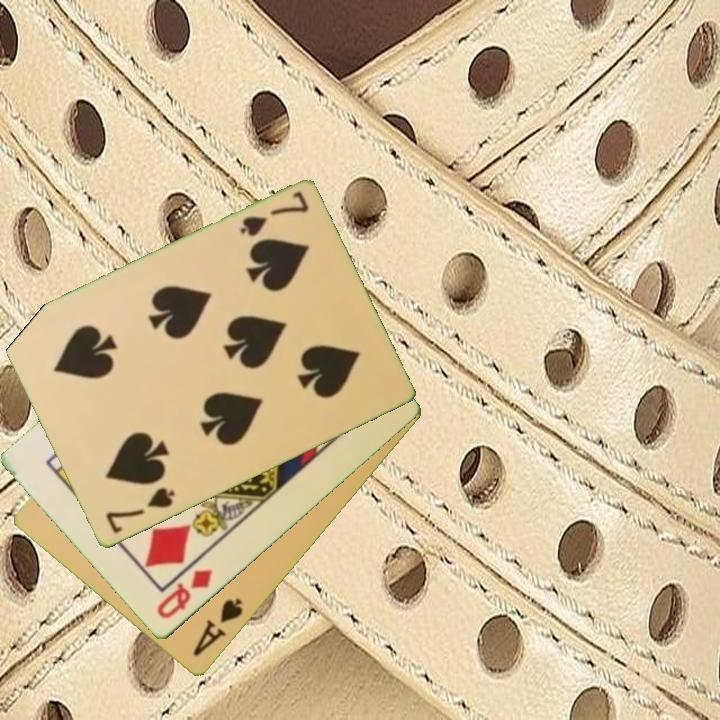7s: (101, 484, 178, 537), (236, 188, 312, 241)
As: (189, 595, 246, 660)
Qd: (153, 566, 215, 623)
